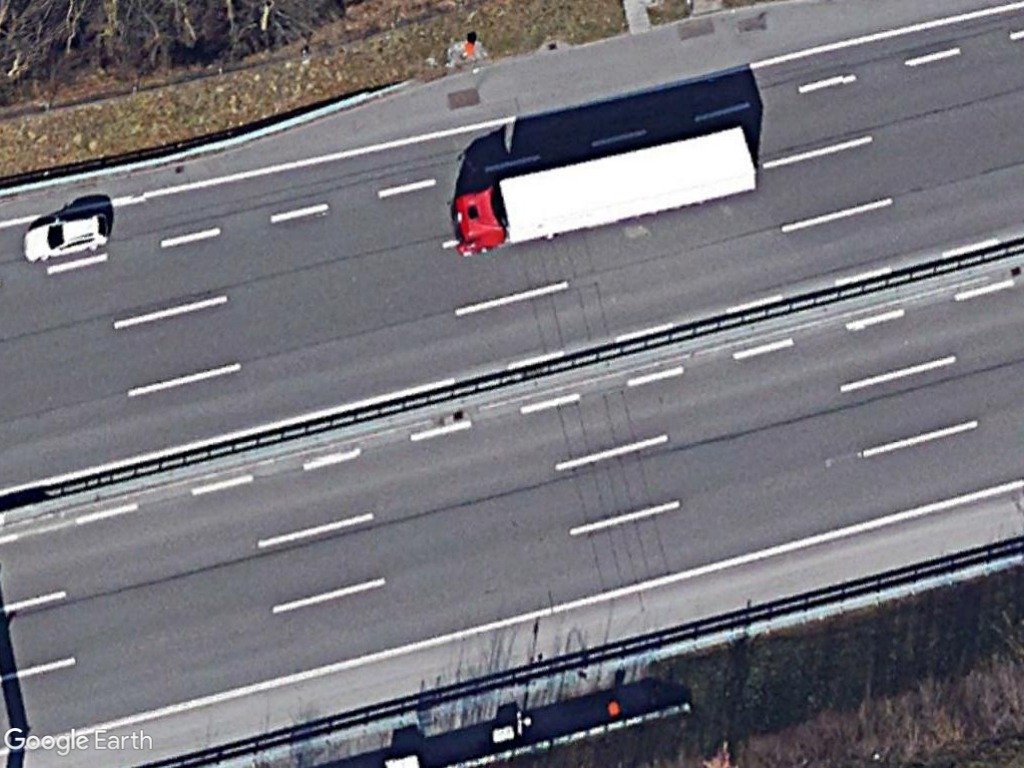car: (22, 210, 115, 265)
longvehicle: (450, 121, 758, 259)
